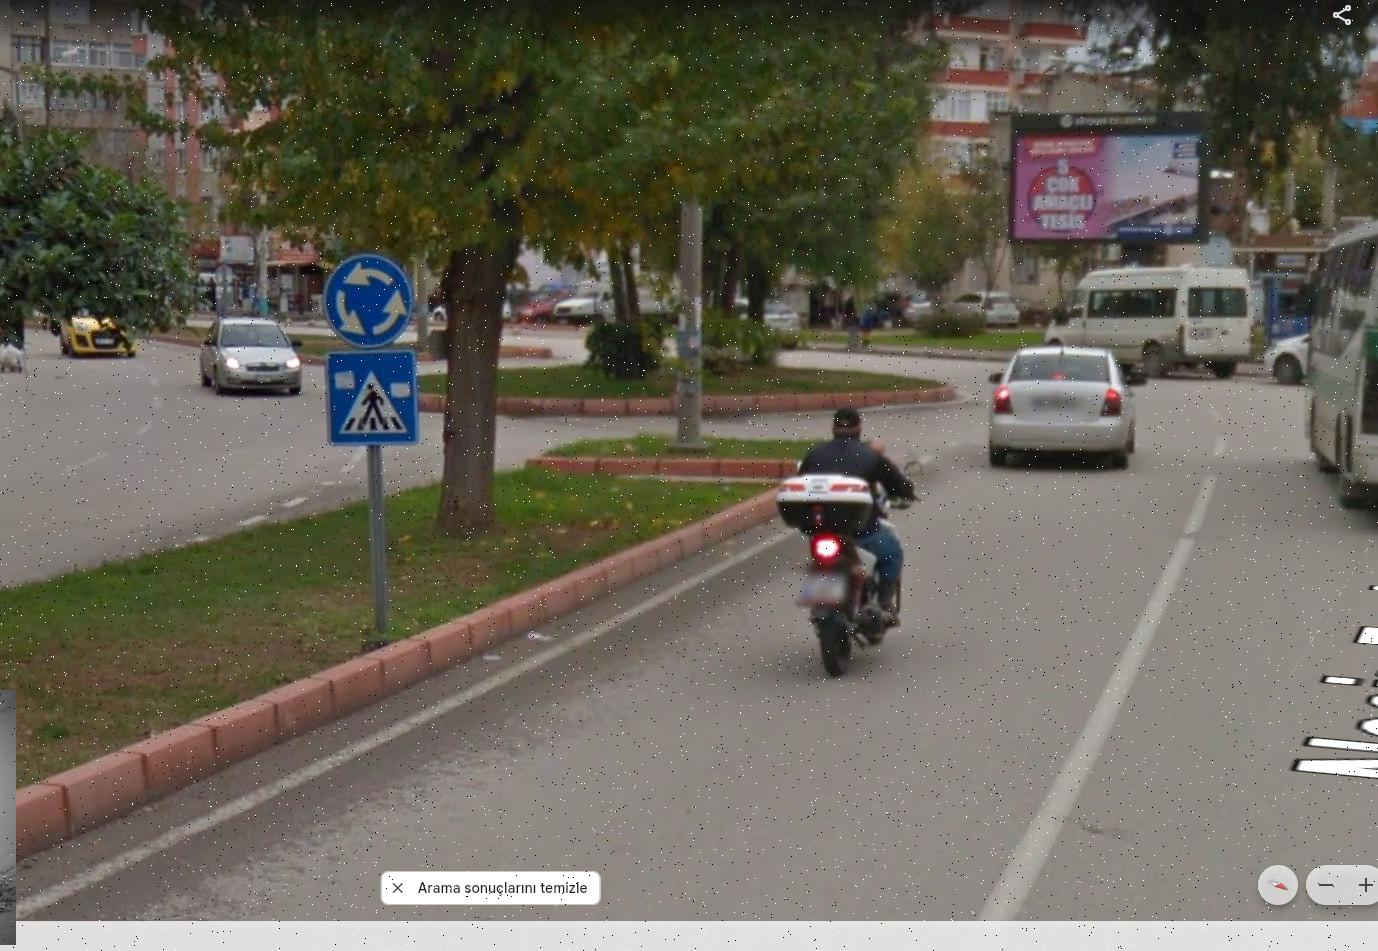crossroads: (326, 253, 414, 341)
